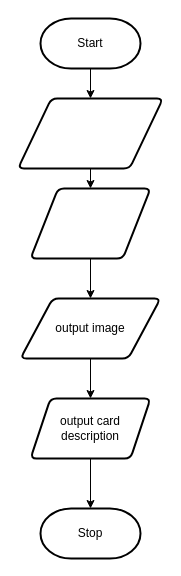
The diagram is 181 pixels wide and 576 high, and some of its shapes have lost their labels. The shapes that lost their labels are listed below. From the top down, each one's box as (x1, y1, x2, y2) in pixels, then its label:
(16, 97, 164, 169): find card image url from "card_images"
(29, 187, 151, 259): get card description from "desc"
